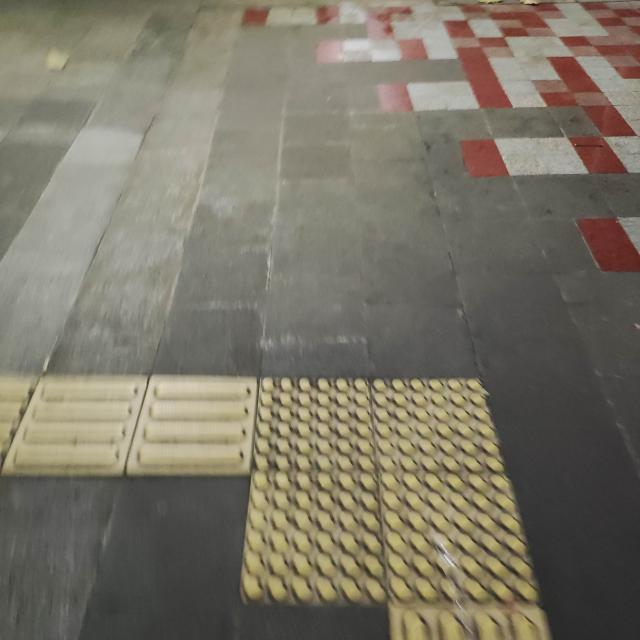kiri: (0, 283, 640, 636)
